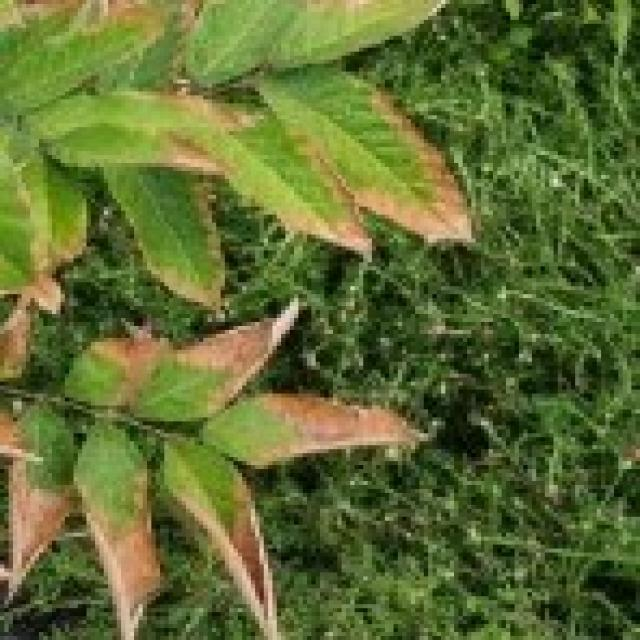Leaf Blight: (0, 298, 389, 640), (214, 76, 477, 279)
